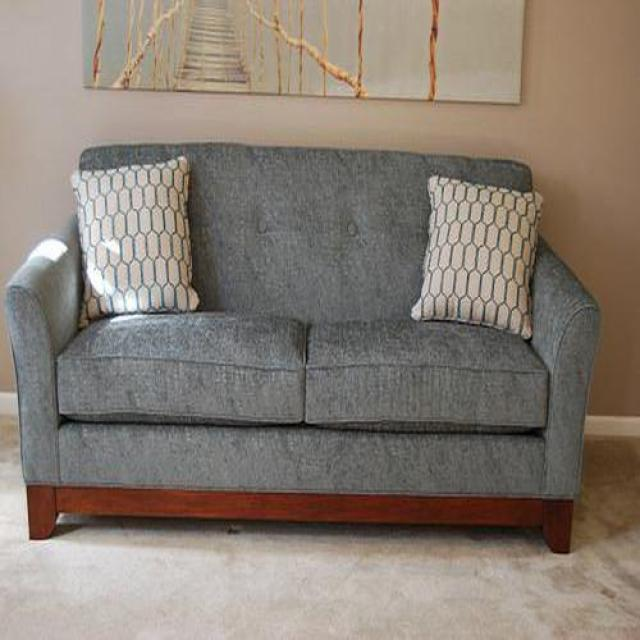sofa: (4, 143, 603, 554)
